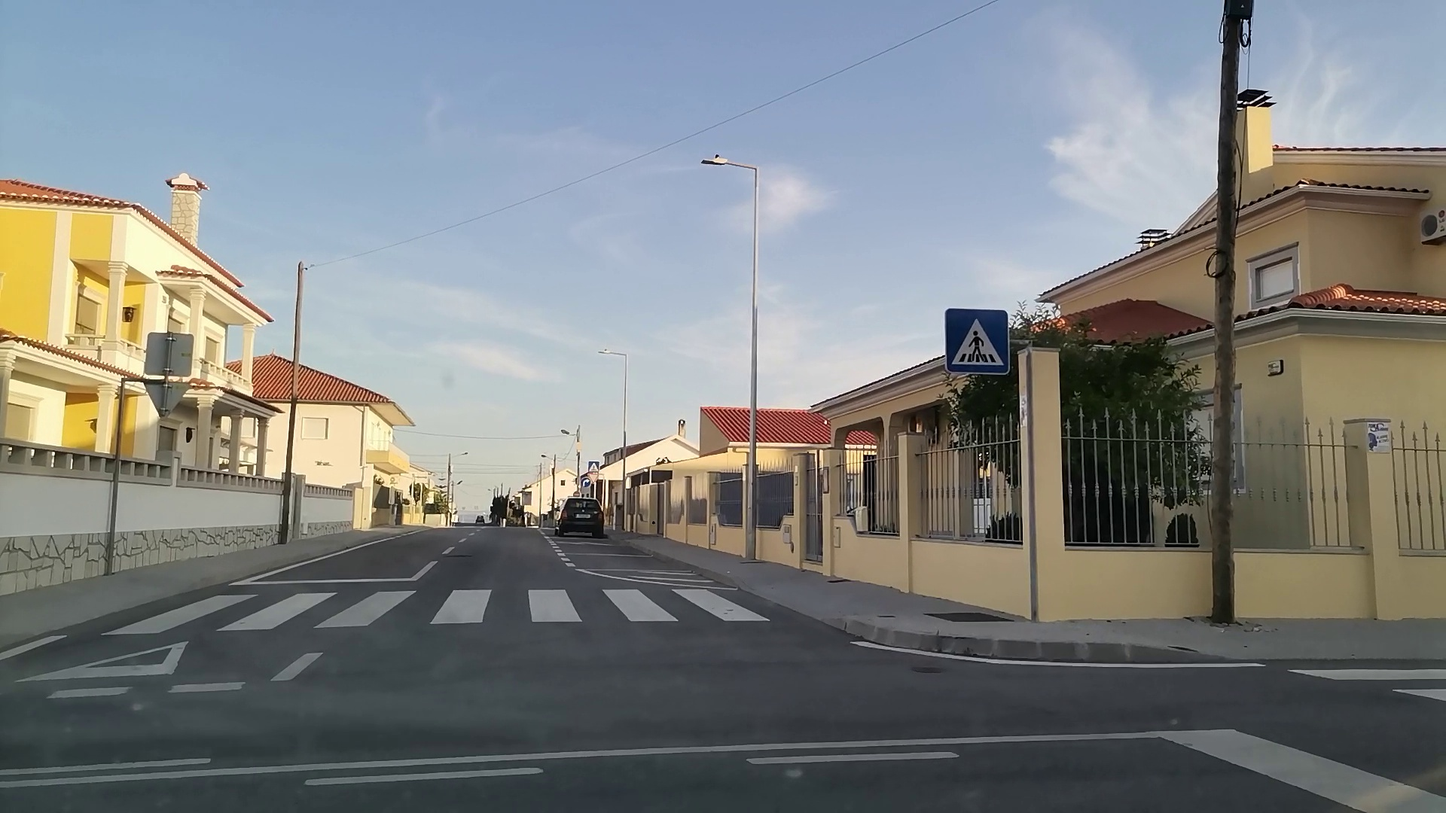Stairs: (95, 585, 771, 635)
